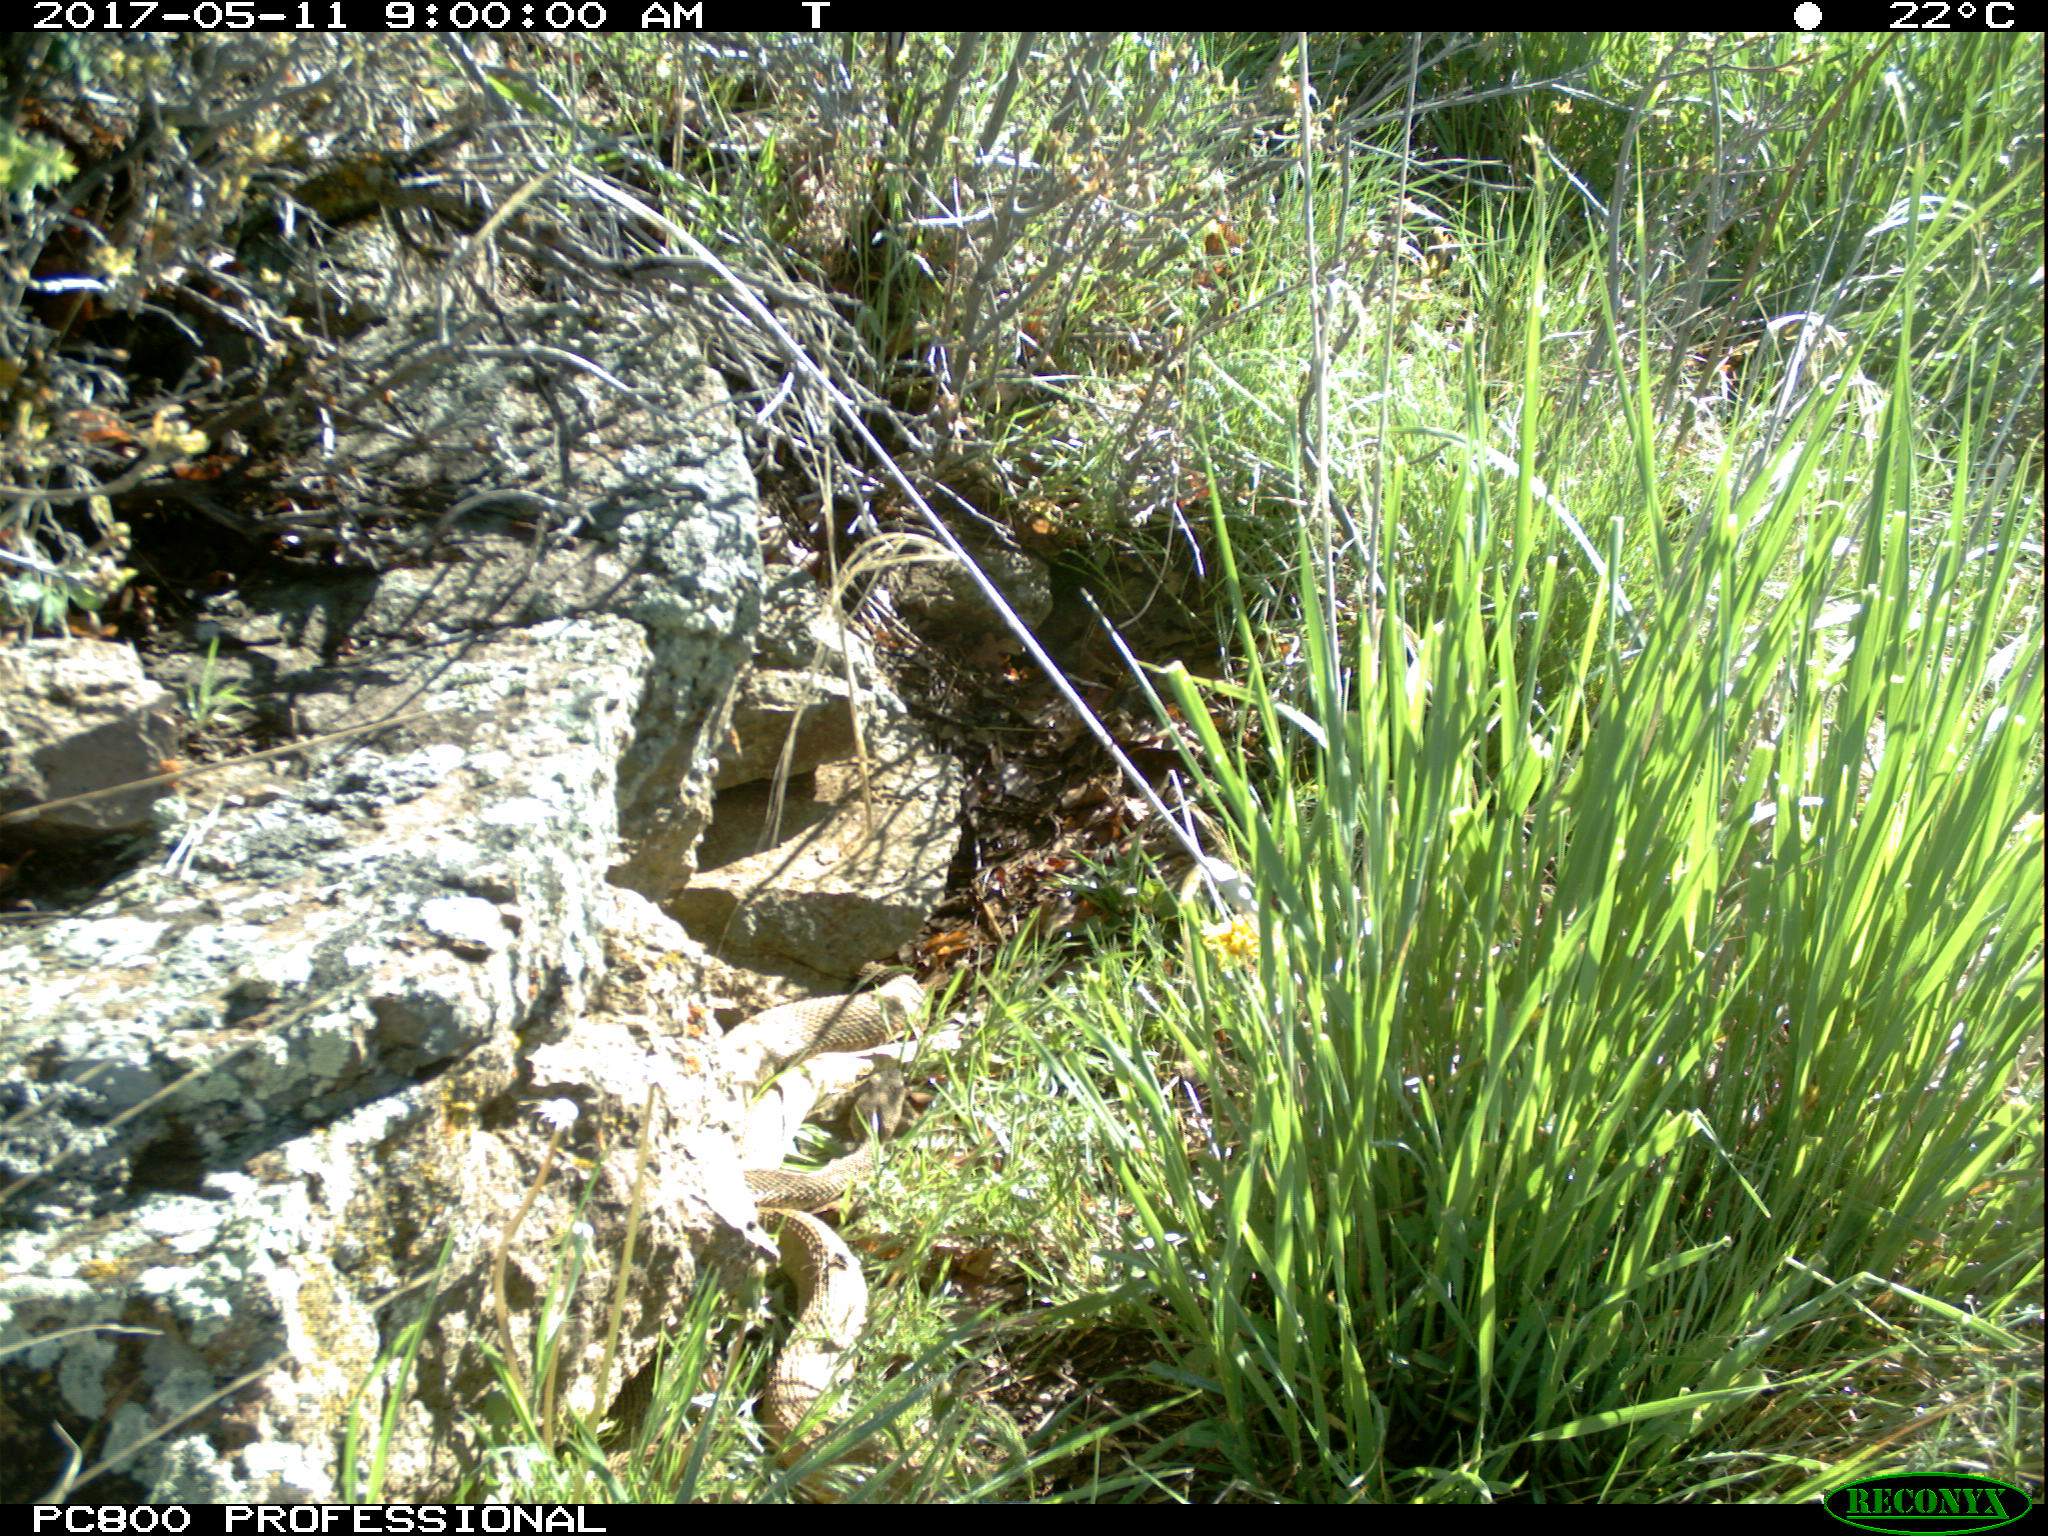snake: (710, 975, 945, 1220), (742, 1204, 897, 1501)
